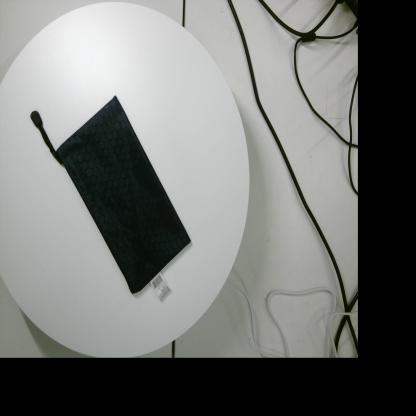Stationery: (30, 95, 192, 302)
